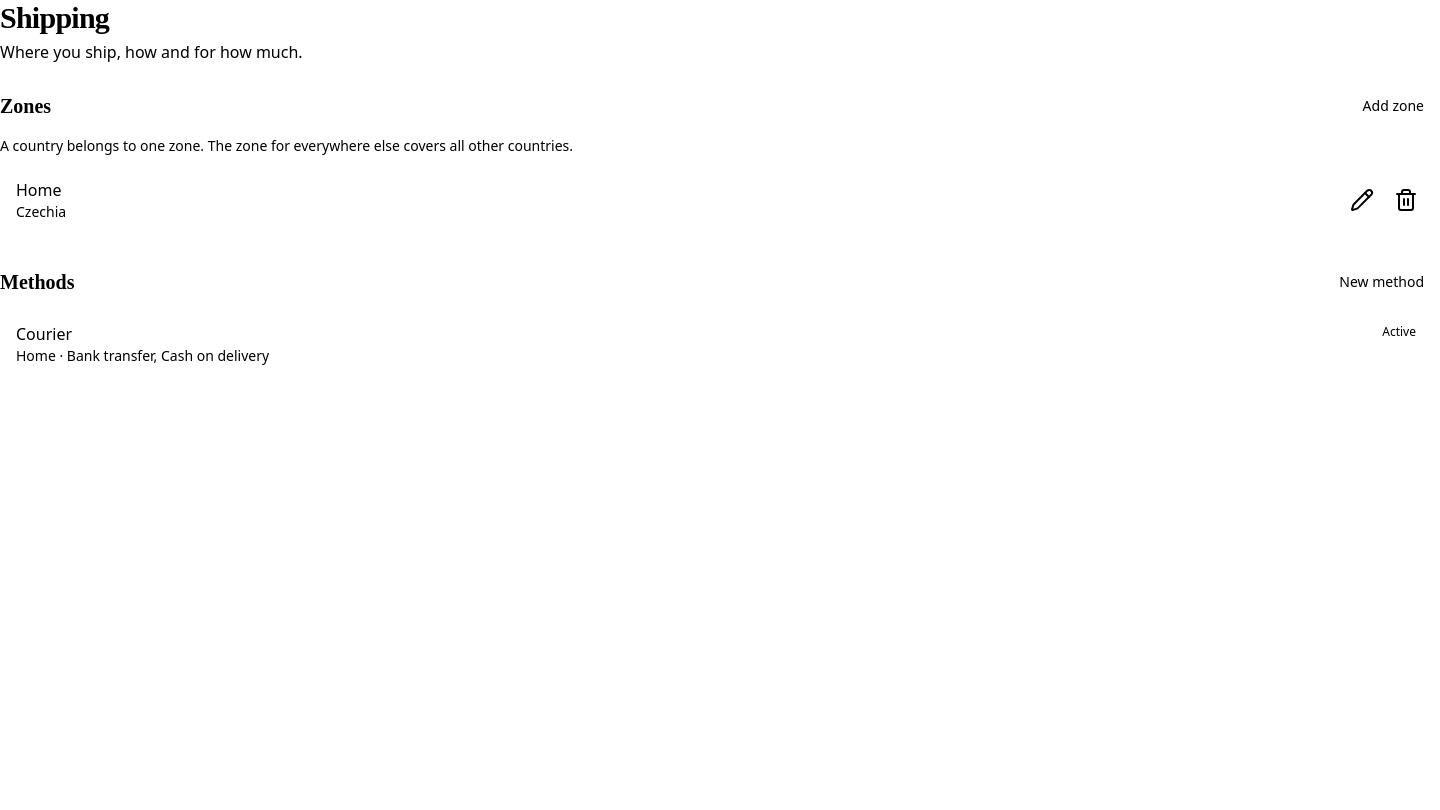
Test: keeps a zone that a method uses and shows the reason
Click the button named "Delete Home".
click(1406, 200)  # box [1388, 182, 1424, 218]
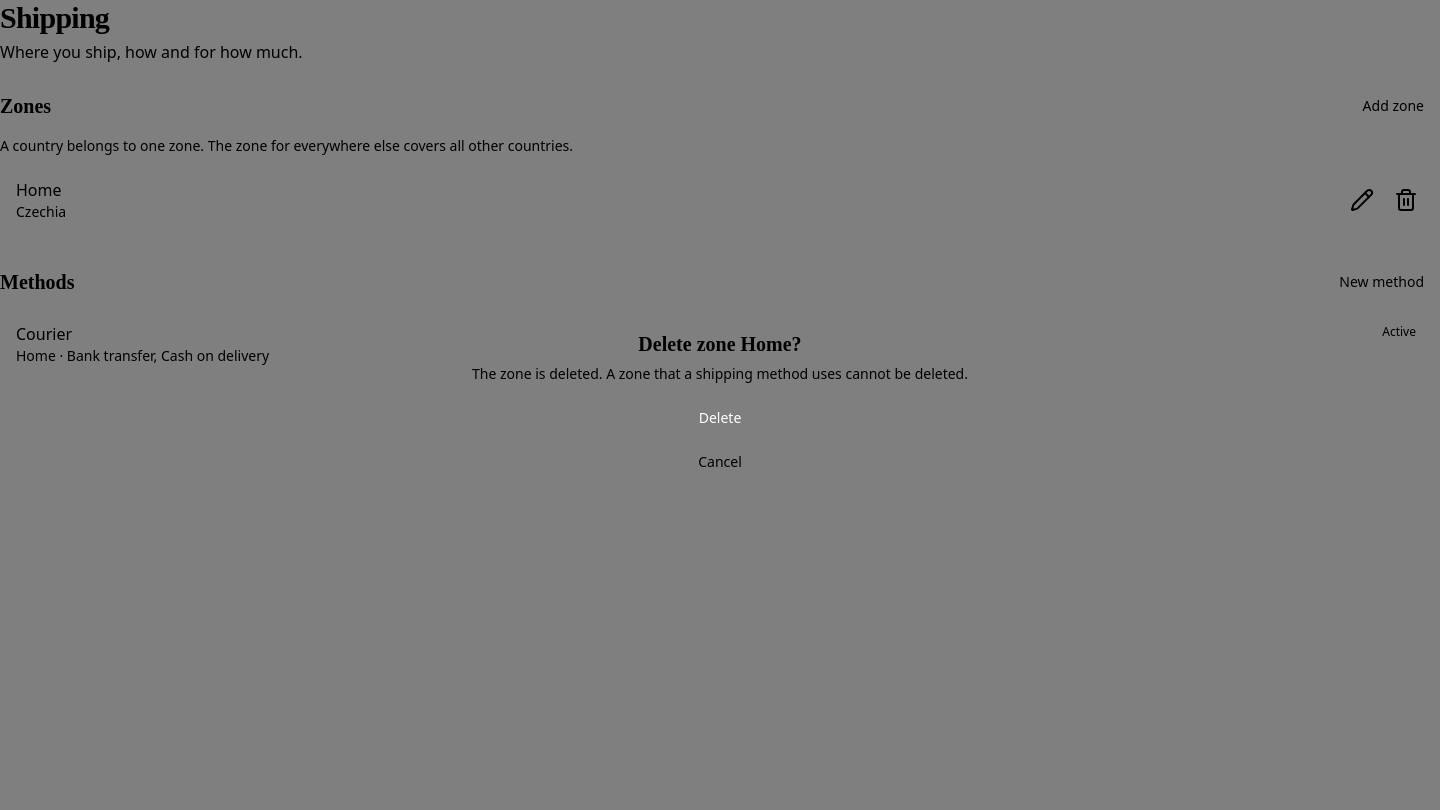
Click the button "Delete".
click(720, 418)  # box [40, 400, 1400, 436]
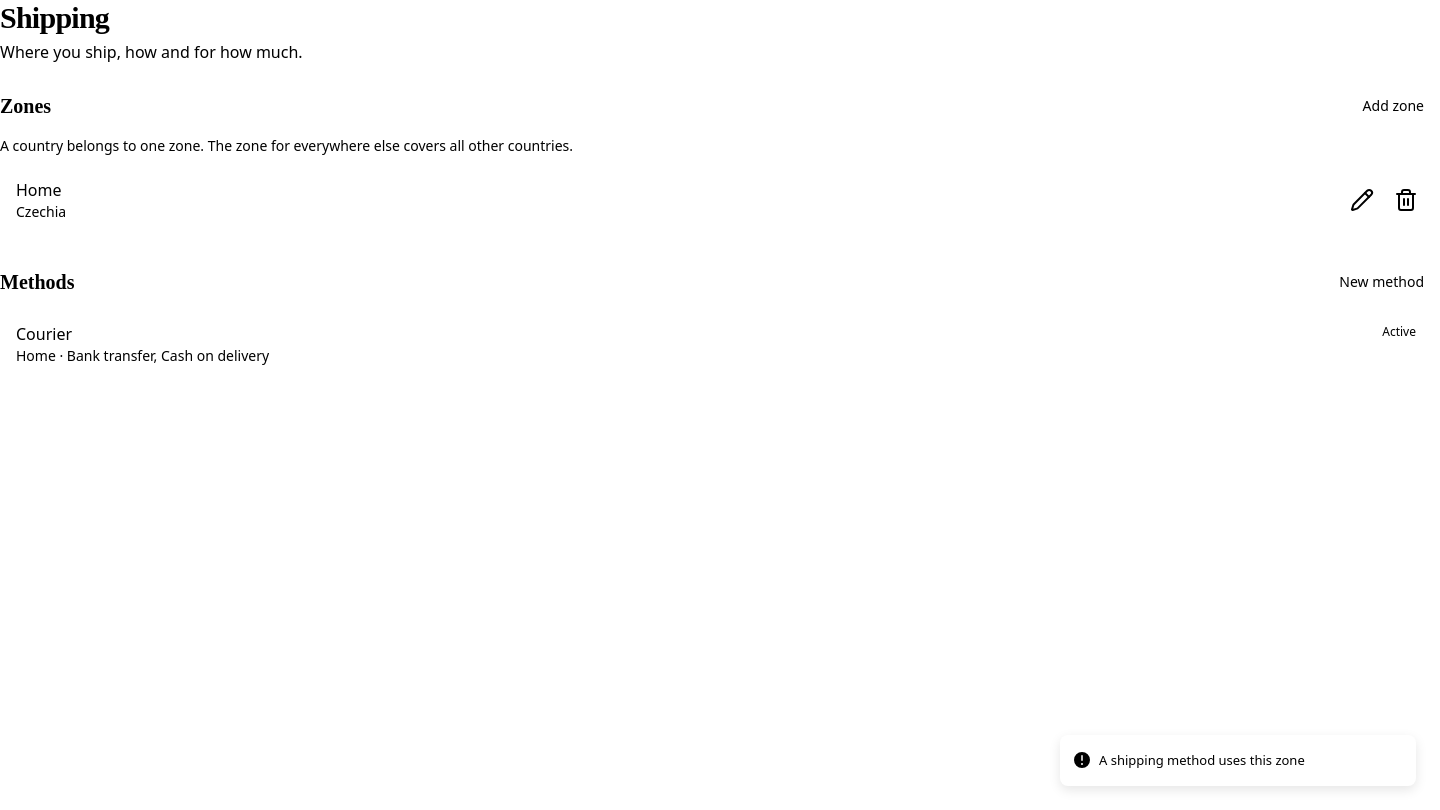
Expected: the text "Home" is shown, [16, 179, 62, 201]
Expected: the text "A shipping method uses this zone" is shown, [1099, 750, 1305, 770]
